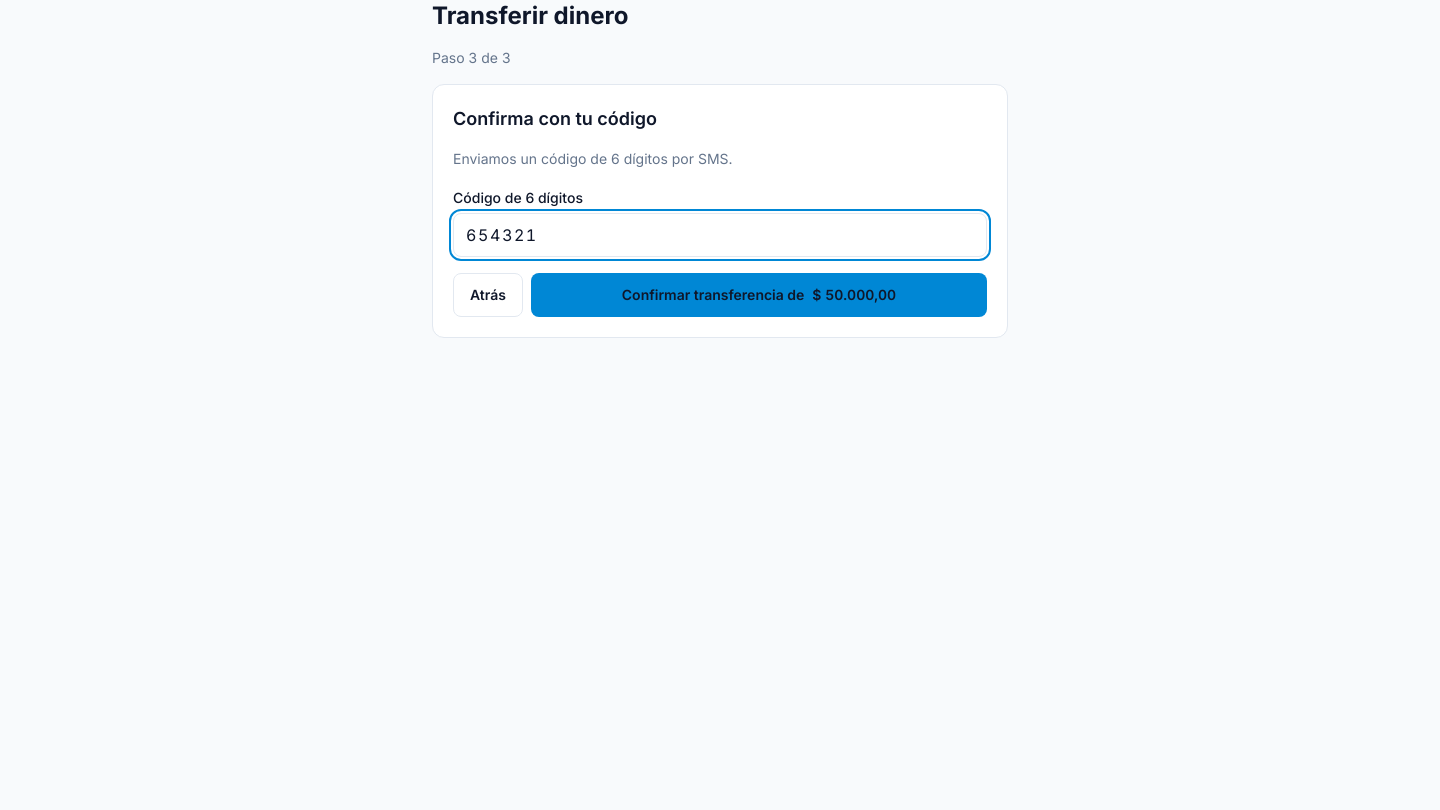
Scenario: Transferencias: flujo de 3 pasos › un error del servidor (RFC 7807) se muestra en un modal con código, y permite reintentar
Earlier steps of the test are not shown.
Click the button "Confirmar transferencia de $ 50.000,00".
click(759, 295)  # box [531,273,987,317]
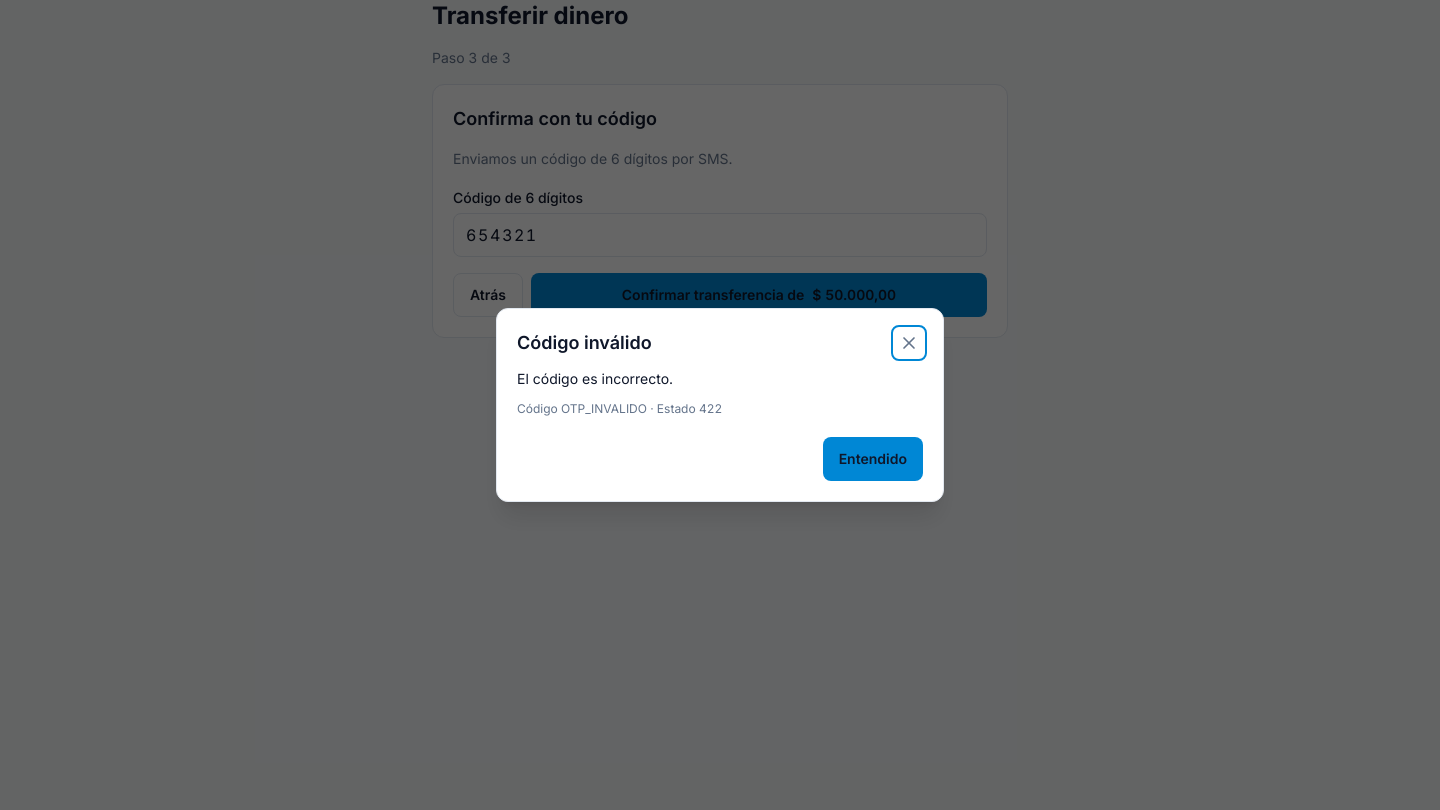
Expected: the text "Código OTP_INVALIDO · Estado 422" is shown, [517,401,722,416]
Click the button "Entendido".
click(873, 459)  # box [823,437,923,481]
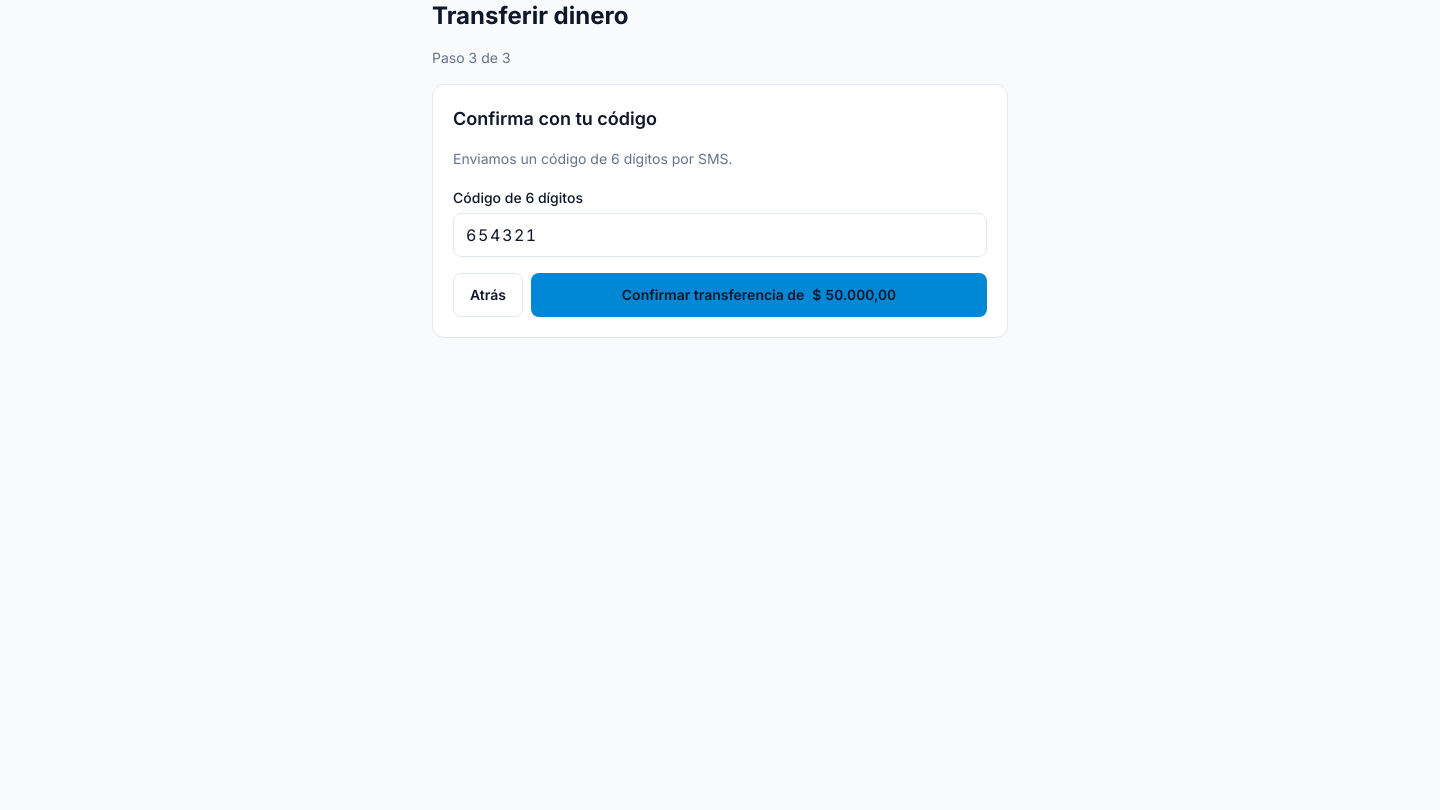
Expected: the button "Confirmar transferencia de $ 50.000,00" is enabled, [531,273,987,317]
Expected: the dialog is gone
